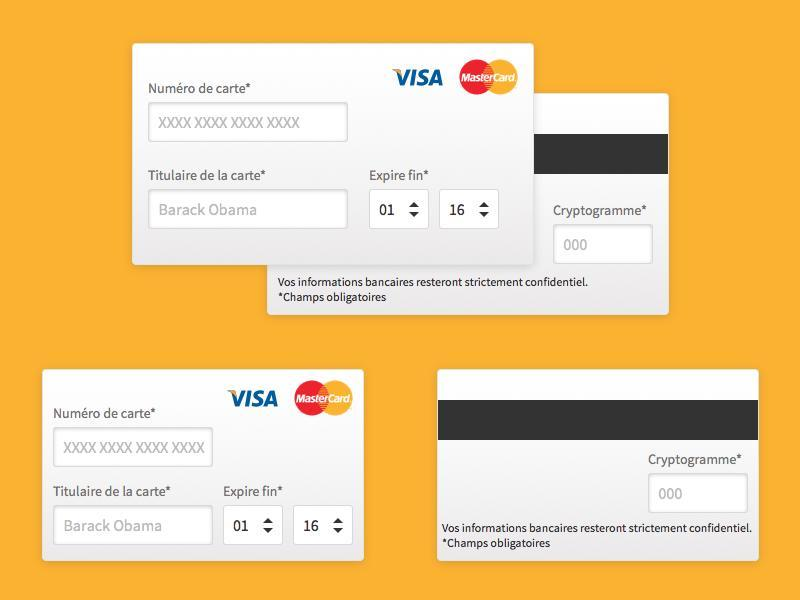input: (150, 102, 350, 145), (151, 192, 347, 231), (52, 505, 215, 547), (52, 427, 215, 467), (648, 473, 748, 516), (555, 226, 653, 266)
label: (147, 167, 270, 185), (49, 484, 175, 500), (148, 79, 251, 98), (51, 406, 157, 423), (648, 452, 744, 470), (552, 202, 650, 219), (221, 484, 286, 501), (369, 168, 430, 185)
